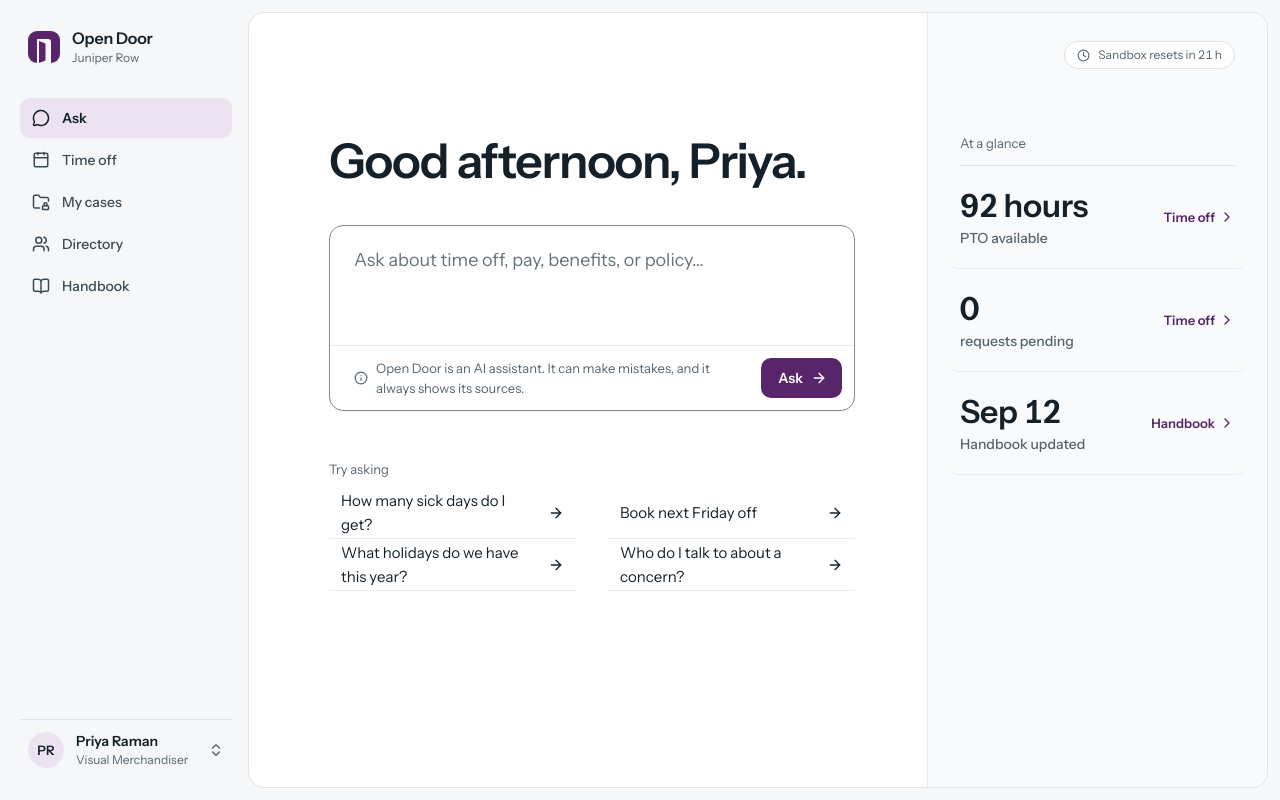
Scenario: the shell: signing out › shows "Signing out…" while it runs, and the menu will not open
This screenshot has width=1280, height=800.
expect the element named "Sidebar" is shown: met, box [0,0,248,799]
Step 1. Click the button named "Switch persona" → (126, 750), box [20,719,232,780]
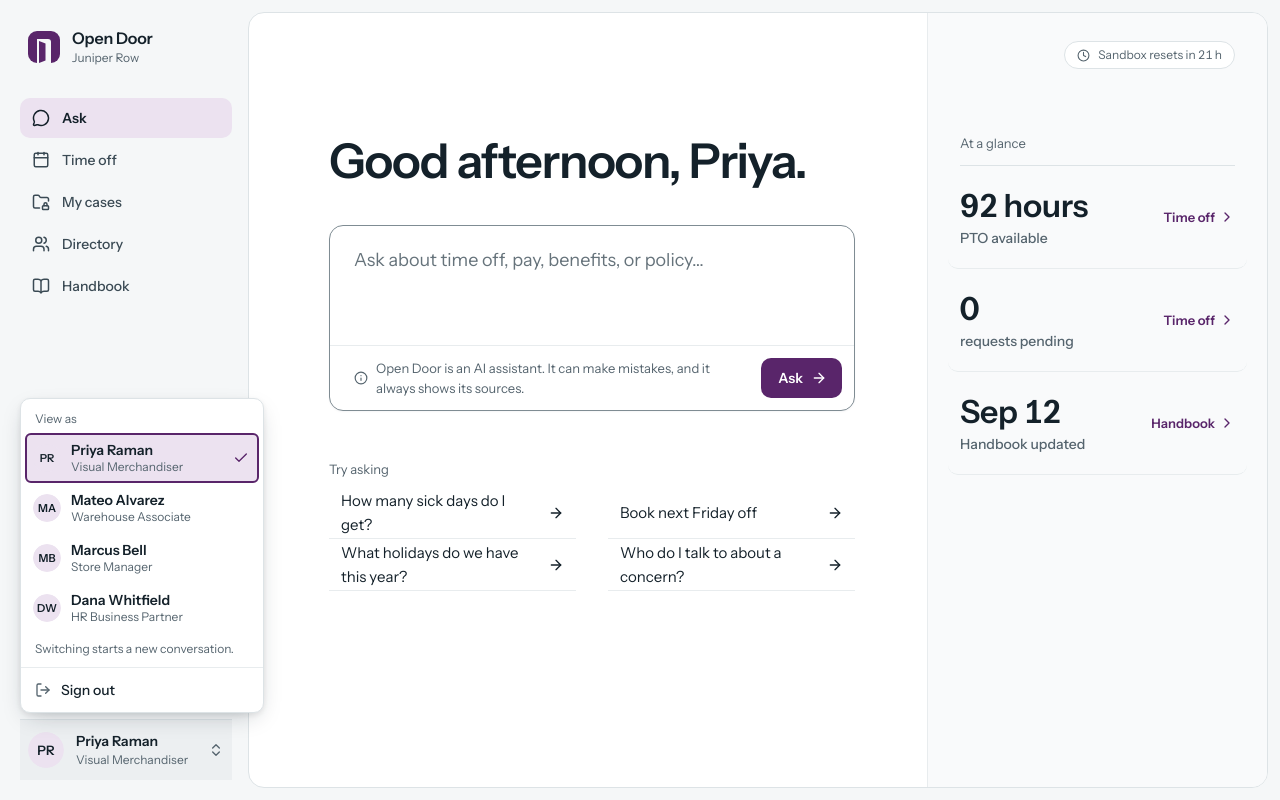
Step 2. Click the menu item "Sign out" → (75, 690), box [35,681,115,699]
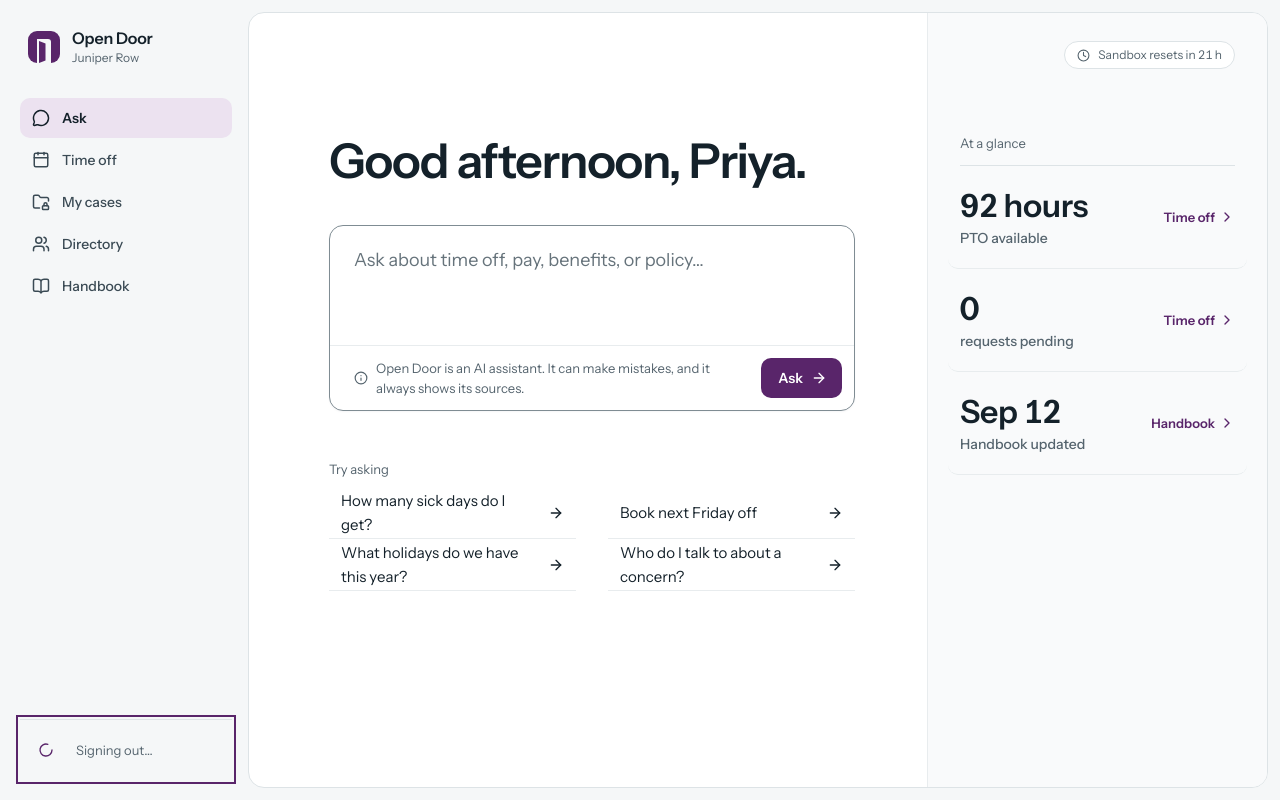
Step 3. Click the button "Signing out…" → (126, 750), box [20,719,232,780]
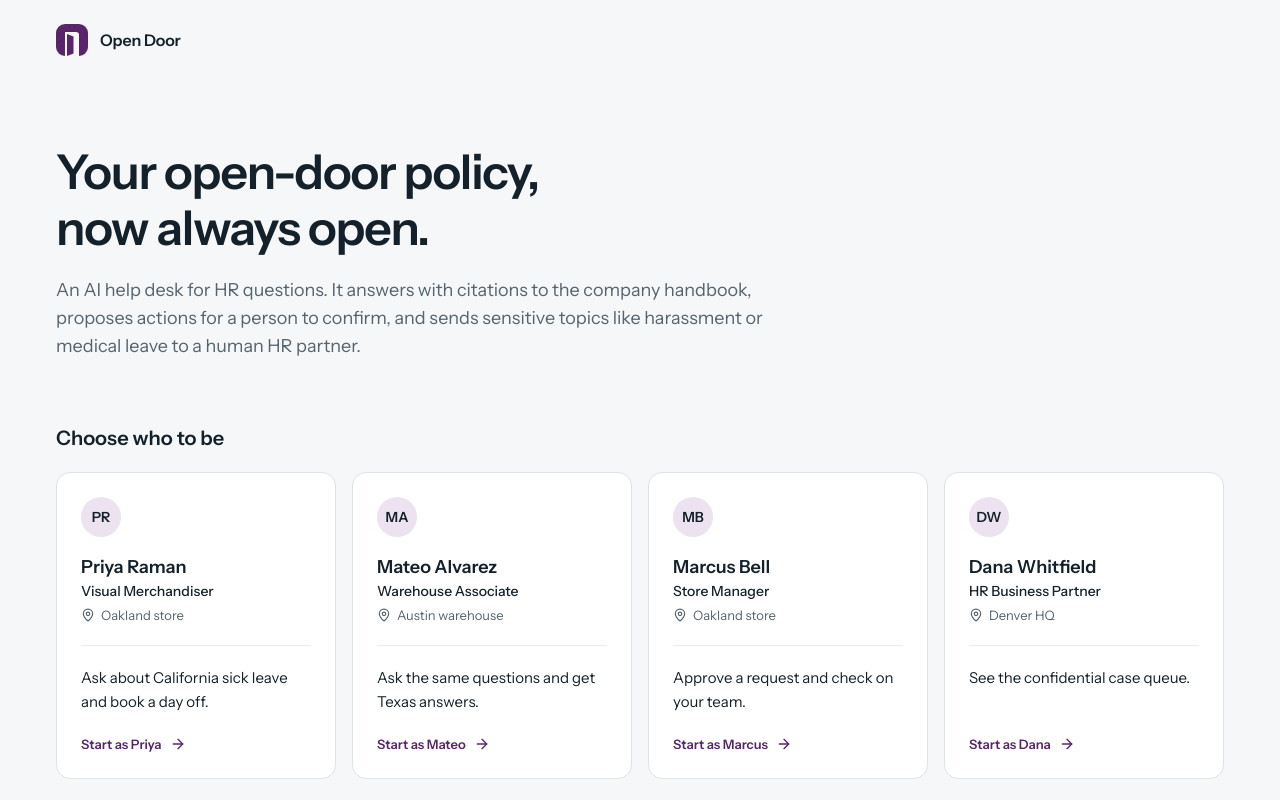
expect the heading "Your open-door policy, now always open." is shown: met, box [56,142,539,257]
